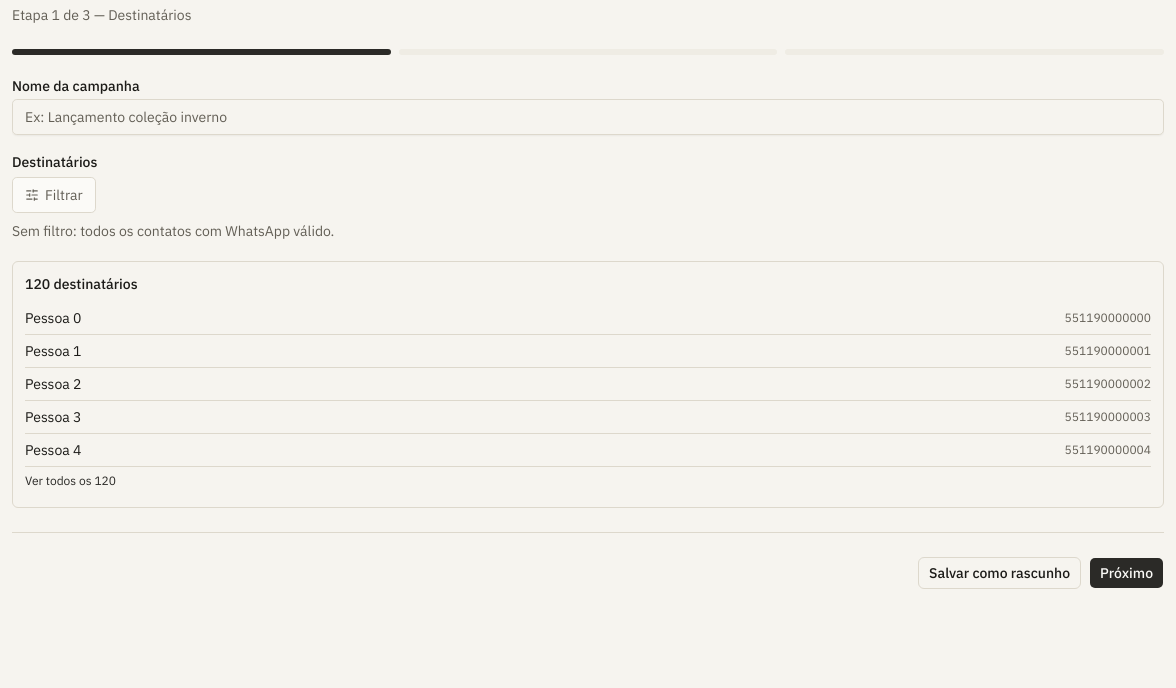
Test case: B48-18 — Rótulos padronizados › CA-B48-45: com mais destinatários que a amostra, "Ver todos" pede a lista inteira ao servidor (C-35)
The width and height of the screenshot is (1176, 688).
Click the button "Ver todos os 120" at (70, 480), box [25,466,116,494]
(page scrolled)
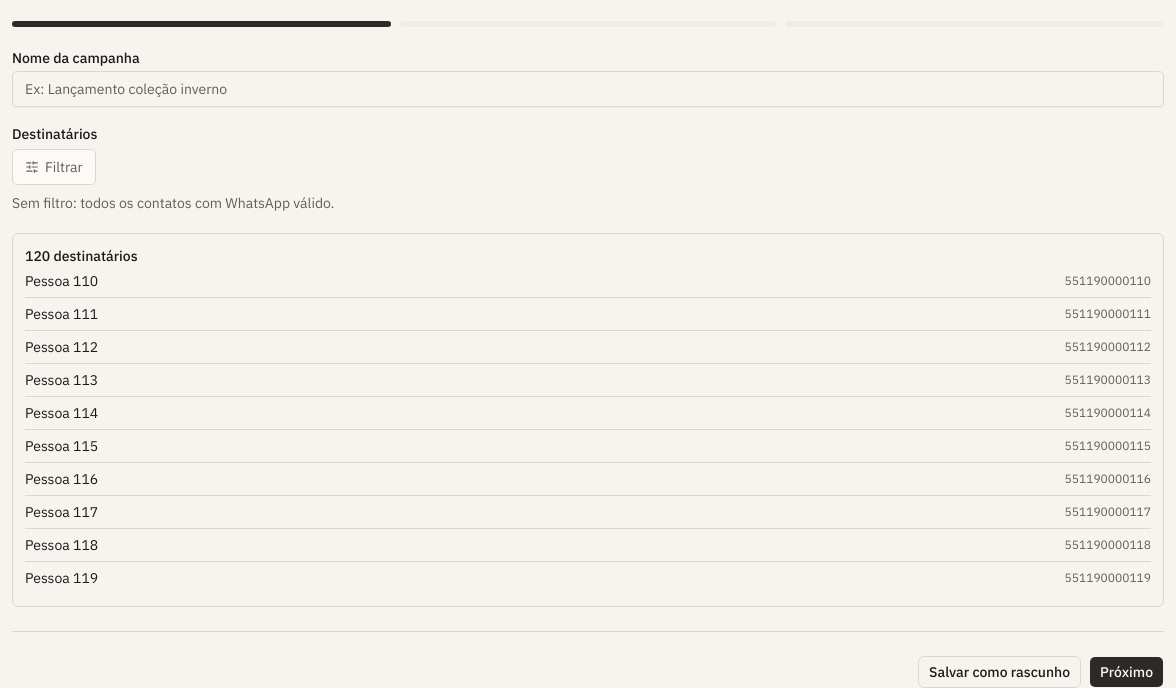
Result: the text "Pessoa 119" is shown at [25,568,98,588]
